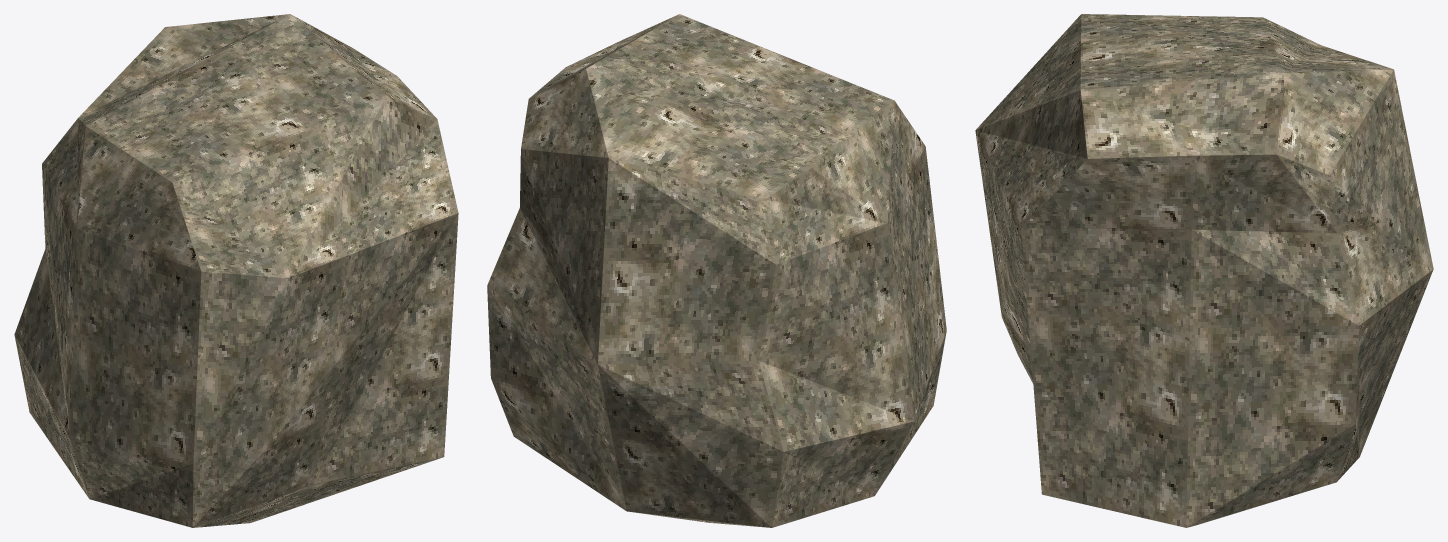
The model's file is asteroid_all_mammoth_02_l3.fbx.
3 views of the same model, side by side, from view 1: azimuth 30°, elevation 25°; view 2: azimuth 150°, elevation 25°; view 3: azimuth 270°, elevation 25° (orthographic). The views are drawn at different scales.
Visible parts, largest first — view 1: mesh_node; view 2: mesh_node; view 3: mesh_node.
Part boxes in pixels (x1,y1,x2,y2): mesh_node: (14, 14, 458, 527); mesh_node: (487, 14, 946, 527); mesh_node: (975, 14, 1433, 527).
Size of the model in its own units: 223 by 285 by 239.
